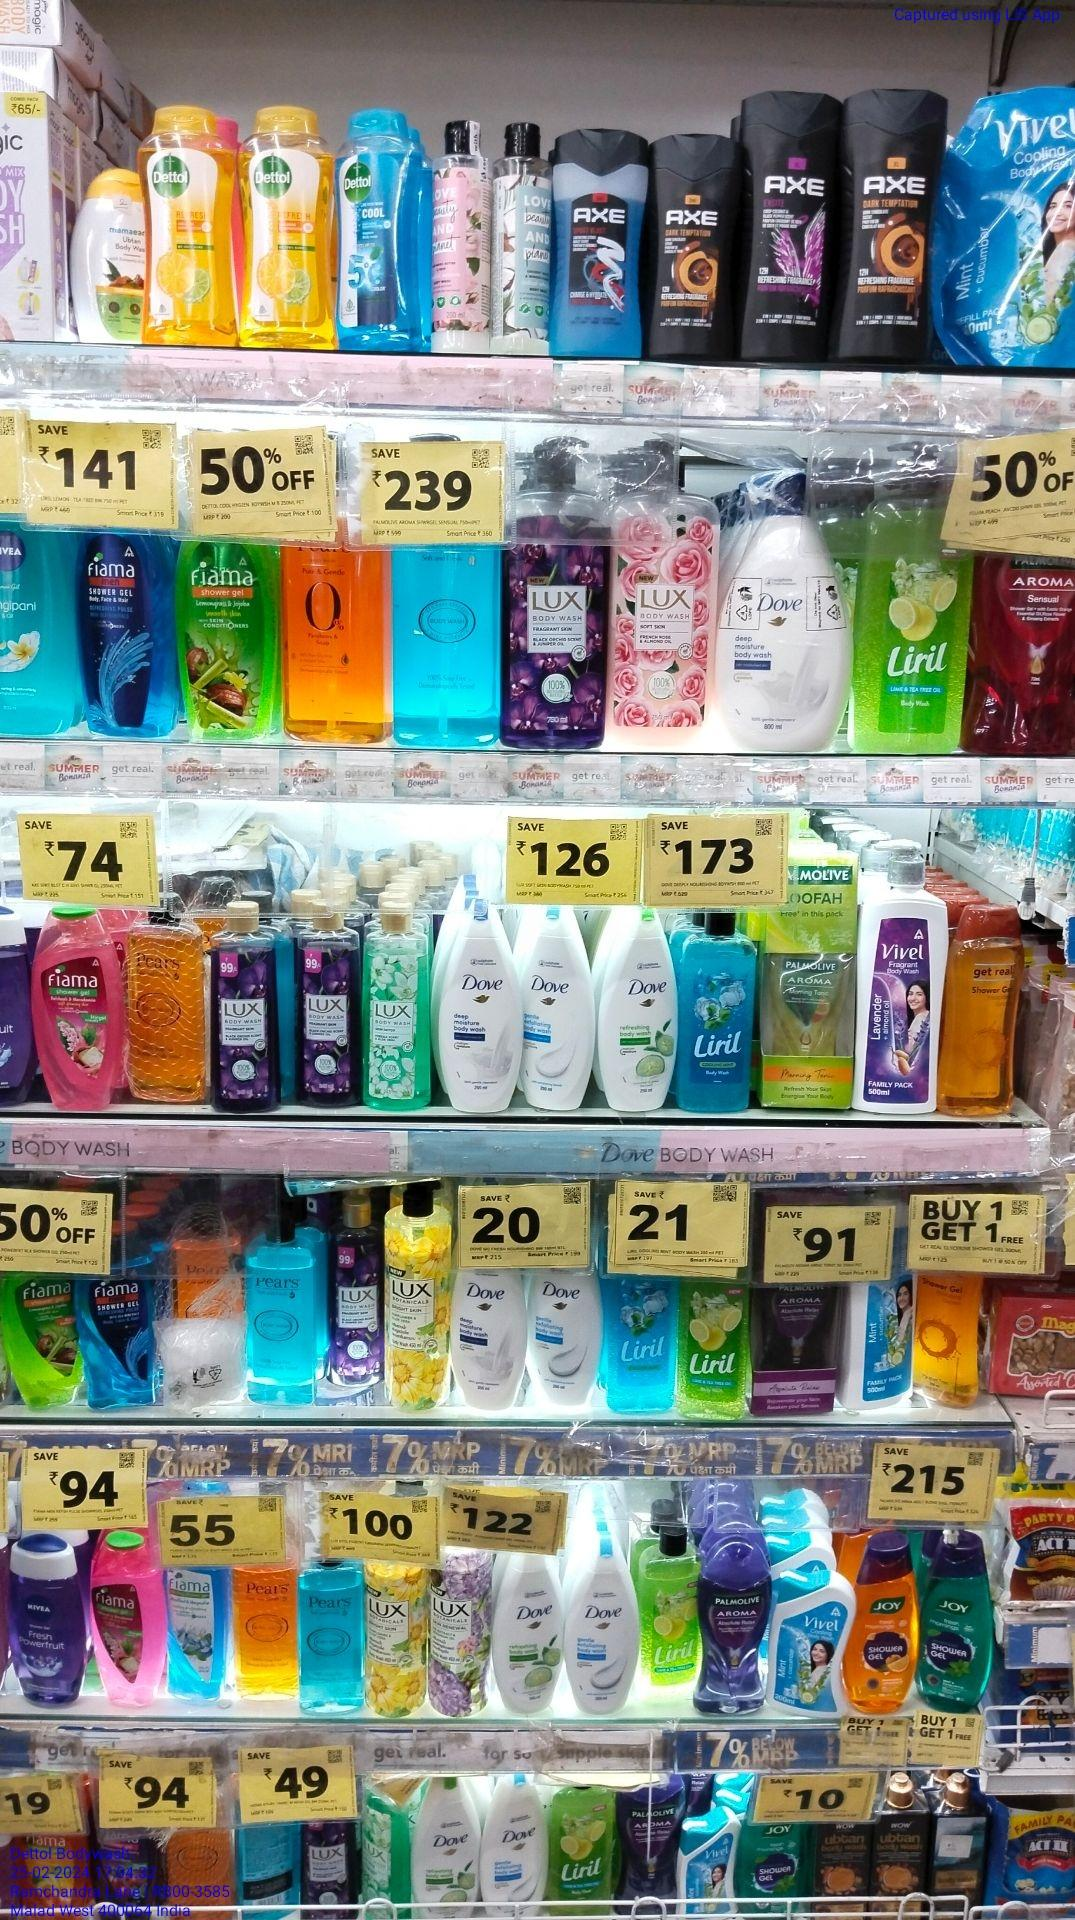Dettol_Bodywash_Cool: (338, 108, 429, 348)
Dettol_Bodywash_Refresh: (241, 105, 336, 352), (137, 105, 233, 345)
Dove_Deep_Moisture_Body_Wash_250ML: (439, 902, 518, 1113), (451, 1270, 528, 1410)
Dove_Gentle_Exfoliating_Body_Wash_250ML: (529, 910, 588, 1112), (533, 1266, 603, 1406)
Dove_Refreshing_Body_Wash_250ML: (595, 906, 674, 1113)
Fiama_Shower_Gel_Lemongrass_and_Jojoba_250ML: (173, 542, 277, 737), (3, 1276, 78, 1412)
Fiama_Shower_Gel_Patchouli_and_Macadamia_250ML: (90, 1535, 161, 1700)
Liril_Cooling_Mint_Body_Wash_250ML: (679, 909, 757, 1113), (245, 1212, 318, 1404), (607, 1275, 679, 1412)
Lux_Black_Orchid_Scent_and_Juniper_Oil_Body_Wash_245ML: (208, 898, 281, 1105), (301, 906, 356, 1104)
Lux_Body_Wash_Skin_Detox_Freesia_Scent_and_Alove_Vera_245ML: (365, 911, 430, 1112)
Nivea_Shower_Gel_Frangipani_and_Oil_250ML: (0, 514, 71, 736)
Pears_Pure_Glycerin_and_Mint_Extracts_Body_Wash_250ML: (299, 1565, 365, 1712)
